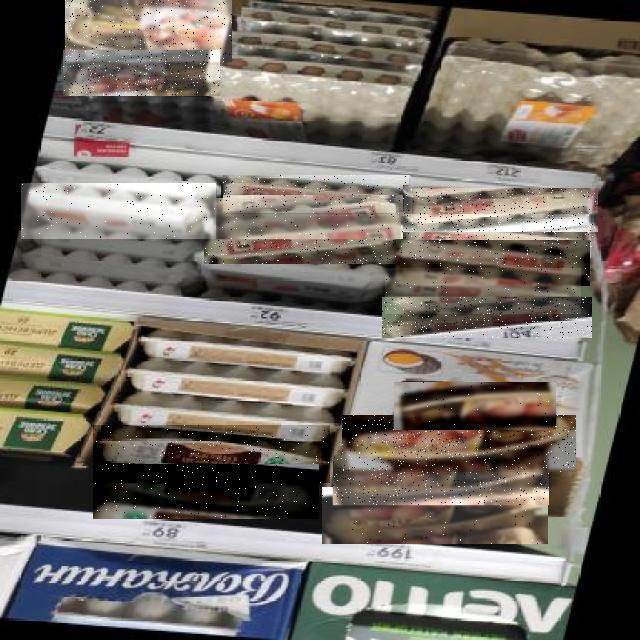Eggs: (93, 425, 330, 483), (342, 416, 576, 474), (323, 487, 549, 544), (93, 464, 319, 519), (21, 183, 216, 239), (333, 455, 549, 505), (65, 0, 232, 62), (204, 218, 402, 264), (385, 269, 581, 315), (396, 240, 590, 286), (383, 297, 593, 338), (407, 188, 599, 232), (402, 214, 594, 258), (214, 198, 406, 239), (395, 382, 557, 430), (224, 176, 412, 216), (63, 50, 220, 96)
